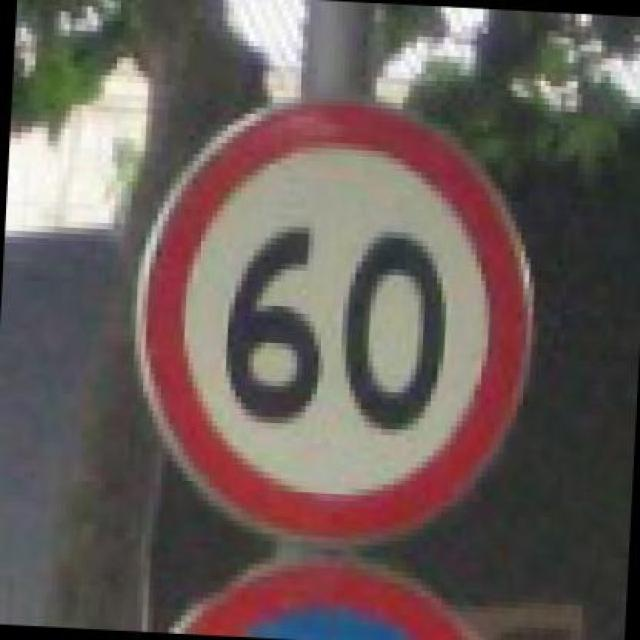Limite-60: (133, 96, 542, 546)
